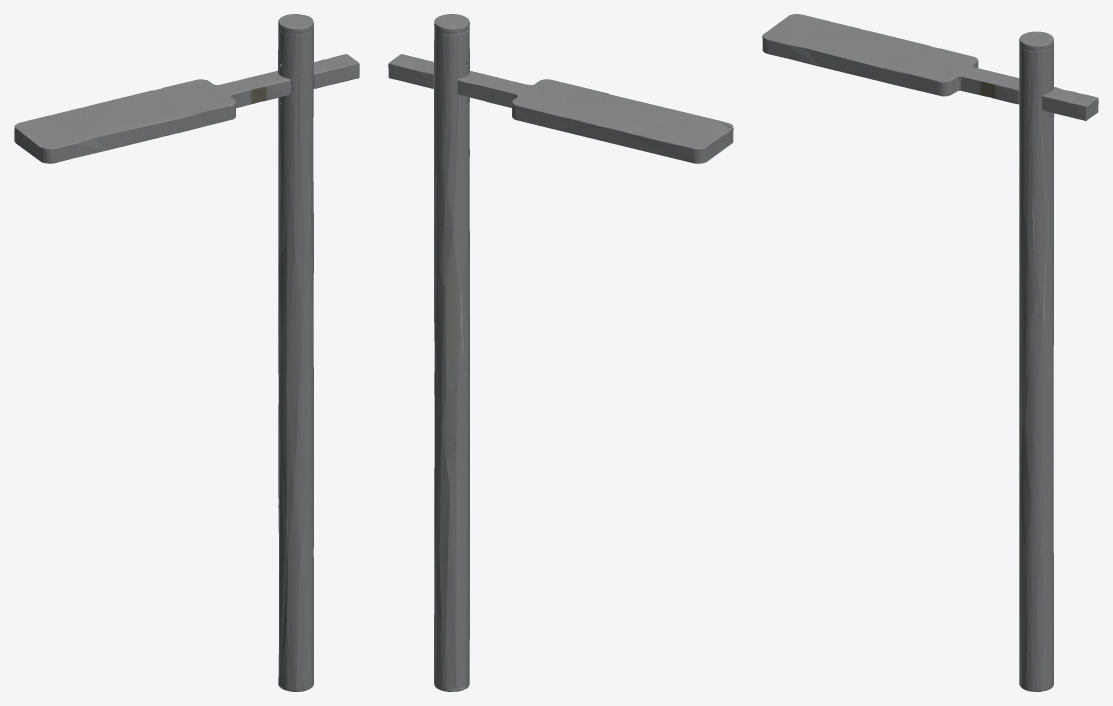
Rendered from street_lamp_modern.glb.
3 views of the same model, side by side, from view 1: azimuth 30°, elevation 25°; view 2: azimuth 150°, elevation 25°; view 3: azimuth 330°, elevation 25° (orthographic). The views are drawn at different scales.
Parts seen in each view (by area): view 1: Mesh_0; view 2: Mesh_0; view 3: Mesh_0.
Boxes of the visible parts, x1,y1,x2,y2 form: Mesh_0: (14, 14, 359, 691); Mesh_0: (388, 14, 733, 691); Mesh_0: (762, 14, 1098, 691).
Bounding box in the file's own units: 2.56 × 5 × 0.4825.
Materials: 1 (1 with a texture image).
